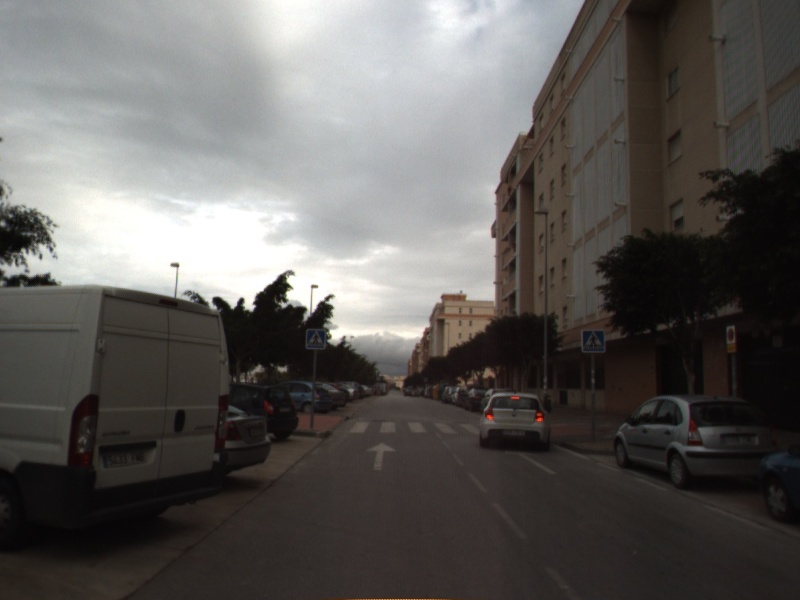STRAIGHT: (364, 440, 398, 472)
